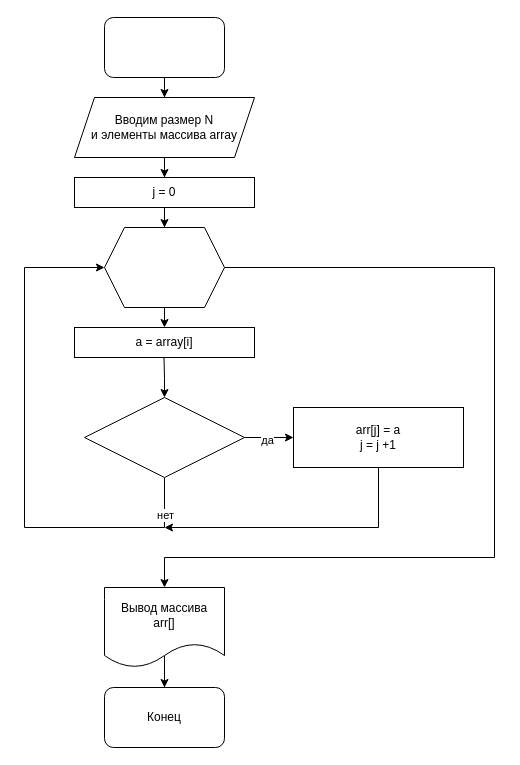
Image size: 520x765. Some labels were removed from this diagram. The shapes that lost their labels are listed below. From the top down, each one's centre as x and y in pixels, then its label:
At point (164, 47): "Начало".
At point (164, 267): "i = 0, N - 1, 1".
At point (164, 437): "a.length <= 3".
